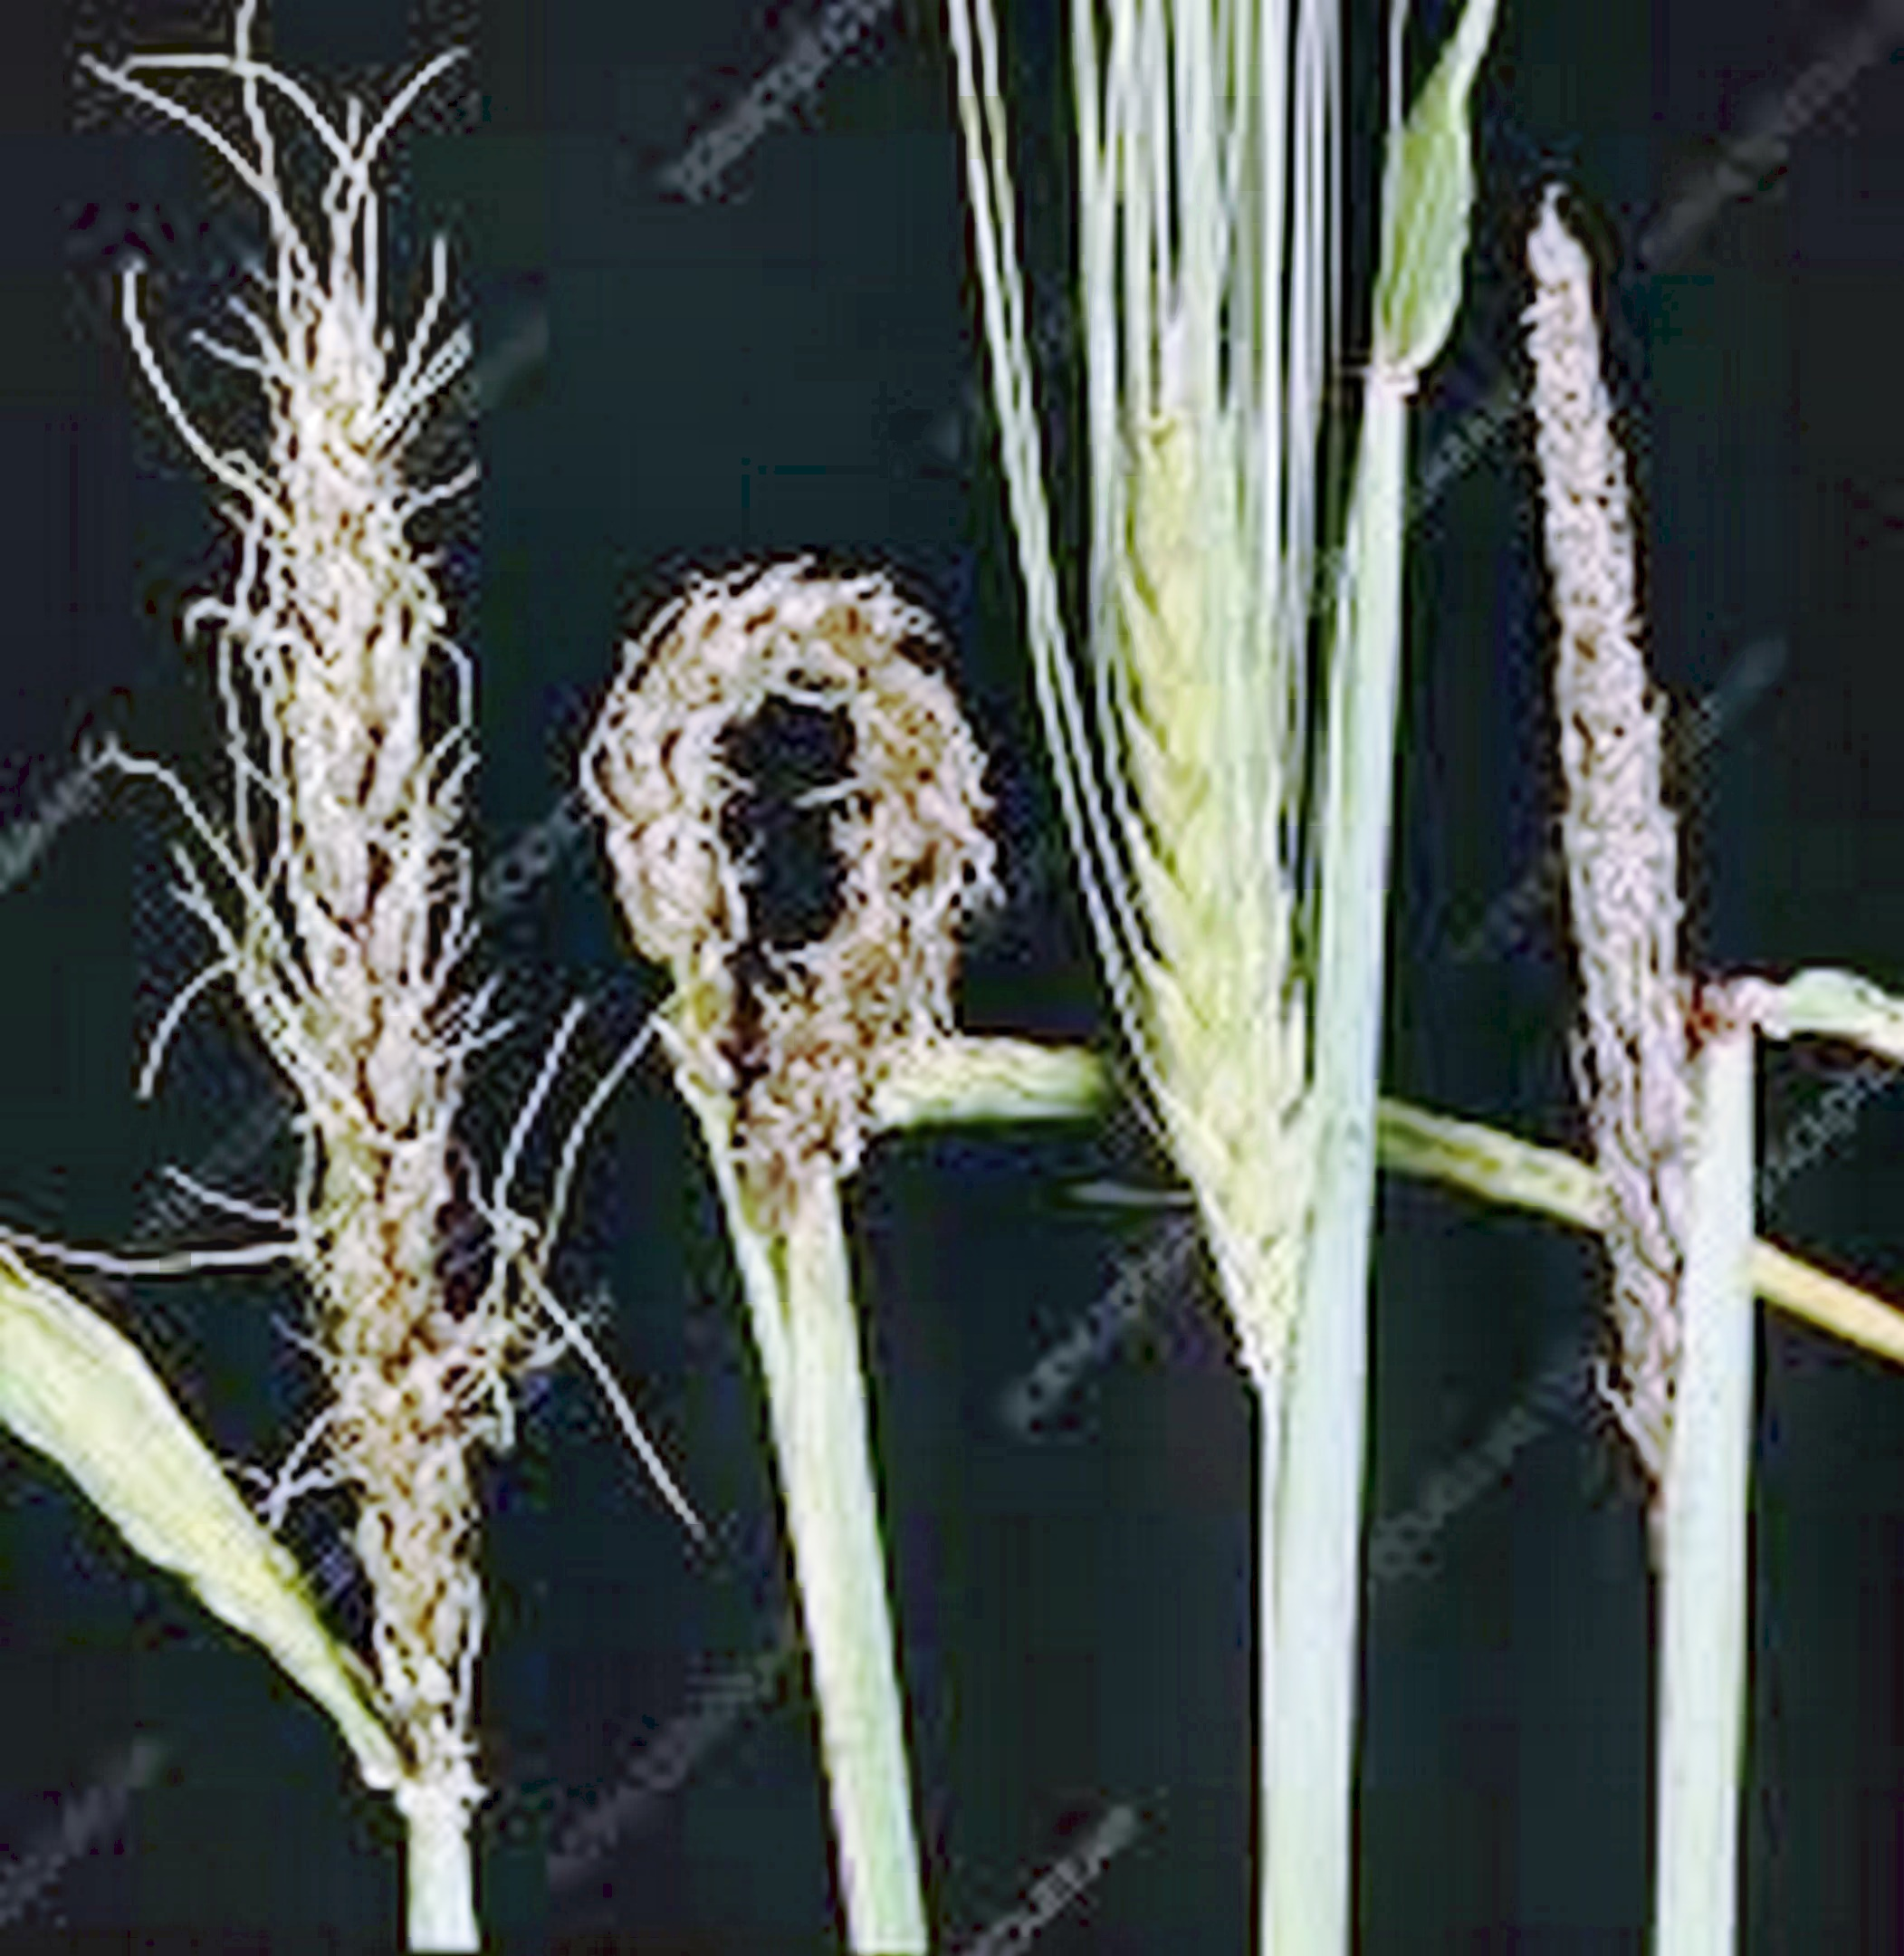Wheat Loose Smut: (171, 257, 529, 1706)
